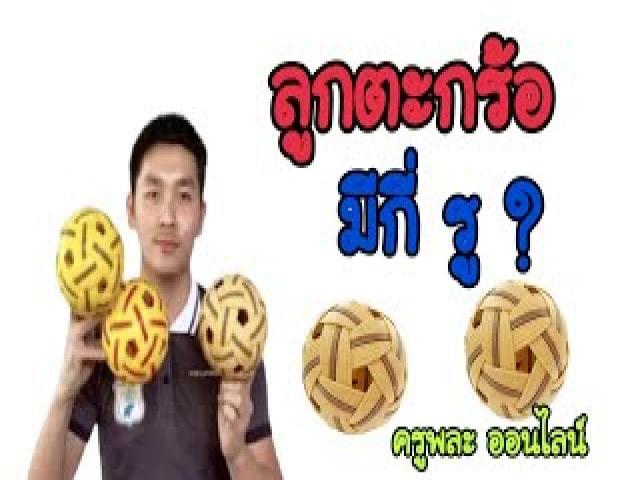round ball: (465, 281, 568, 418), (302, 302, 406, 433), (56, 208, 124, 319), (199, 275, 266, 380), (102, 278, 169, 383)
